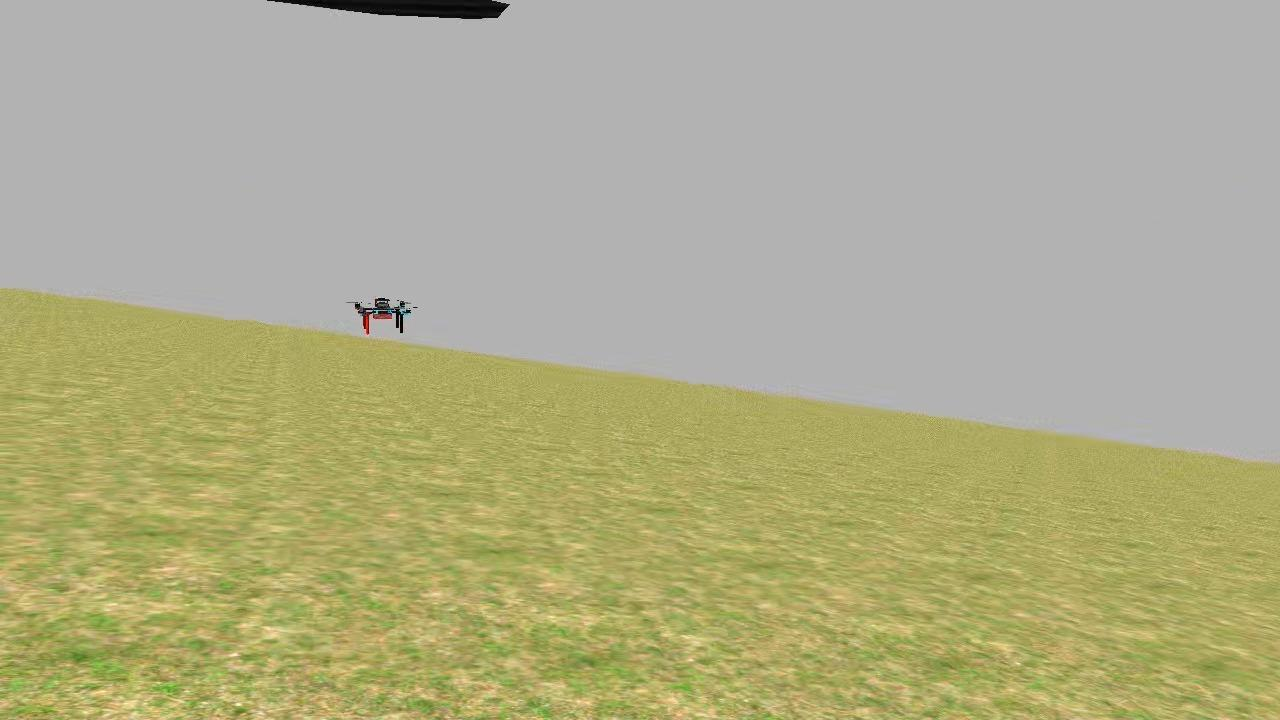UAV: (342, 290, 426, 343)
